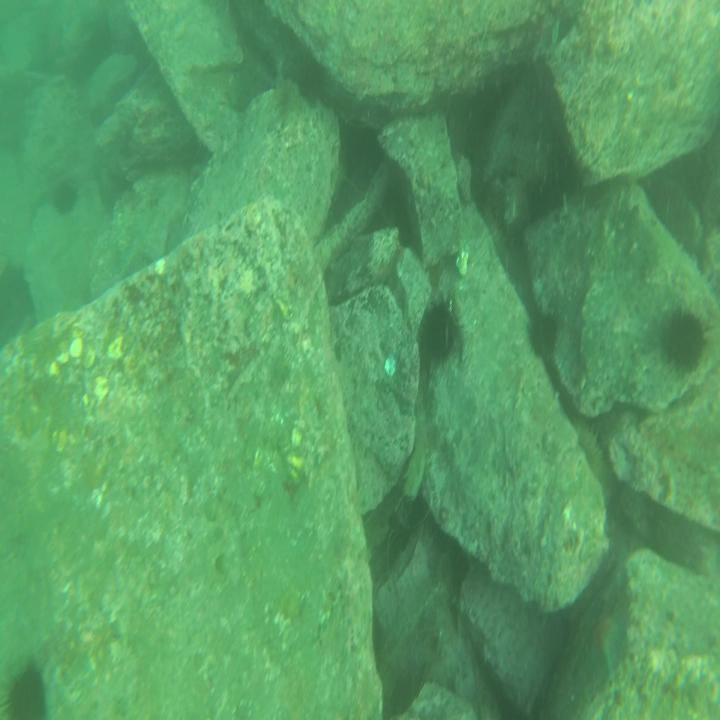echinus: (665, 306, 707, 374), (4, 661, 51, 720), (1, 267, 33, 352), (417, 302, 457, 369), (54, 178, 78, 217)
